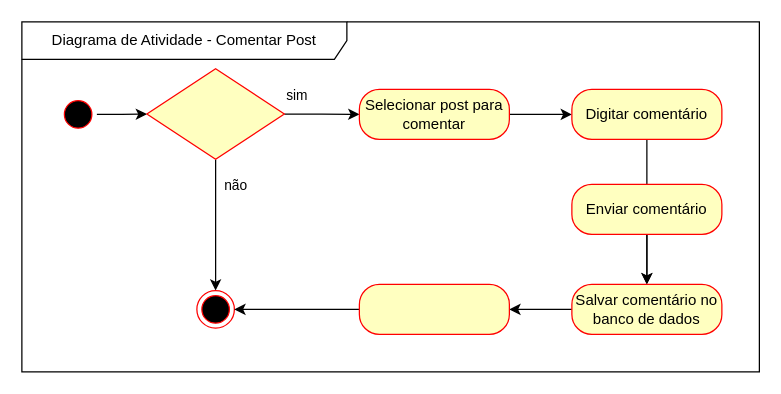
This 781x394 diagram has some shape labels left out. Each missing label, with the centre of its shape:
"Atualizar post com novo comentário" goes at (x=433, y=308).
"Usuário está logado?" goes at (x=215, y=113).
